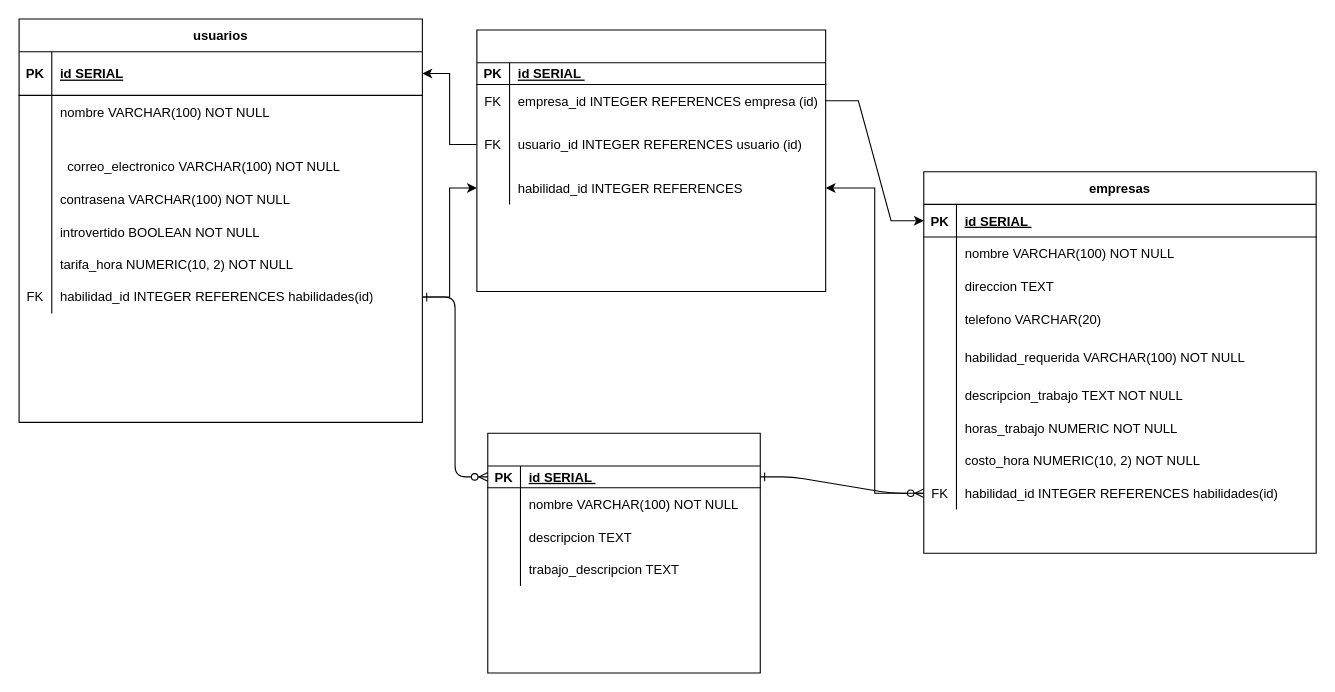
Image size: 1335x692. Some labels were removed from this diagram. The shapes that lost their labels are listed below. From the top down, each one's box as (x1, y1, x2, y2) in pixels, then its label:
(476, 29, 826, 292): relaciones
(487, 432, 760, 673): habilidades
